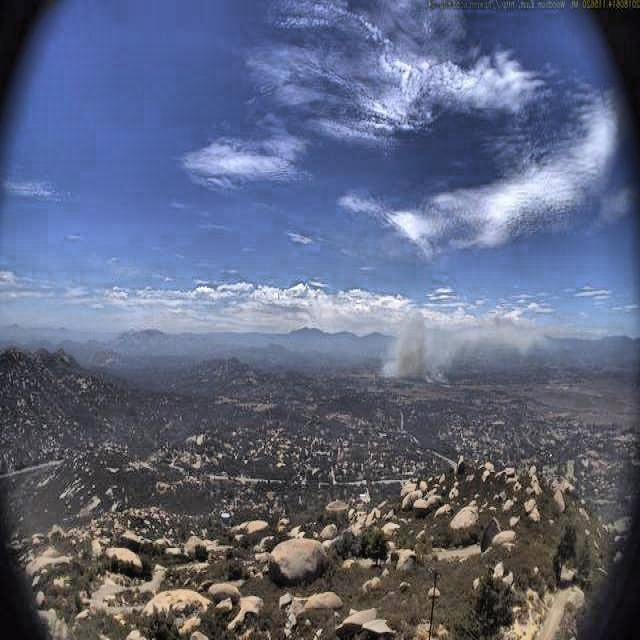smoke: (379, 284, 558, 395)
